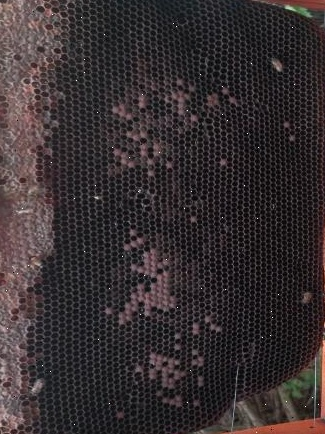cria: (105, 78, 237, 419)
